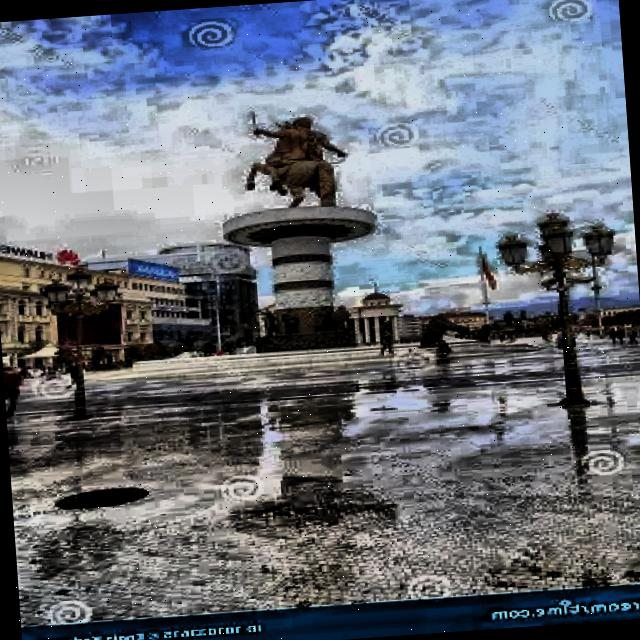alexander the great monument: (223, 105, 387, 355)
